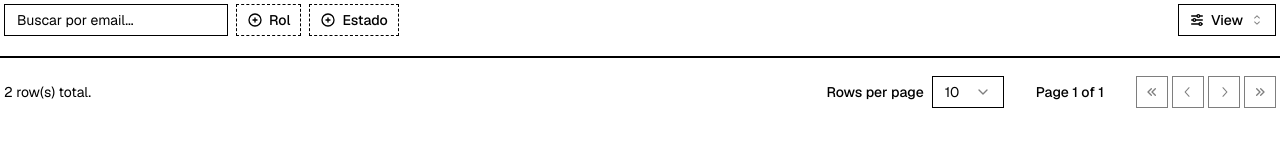
Test: OperatorsTable — toolbar › shows a reset control once a filter is active
In the field with placeholder "Buscar por email...": (116, 20) [4,4,228,36], type "analyst"
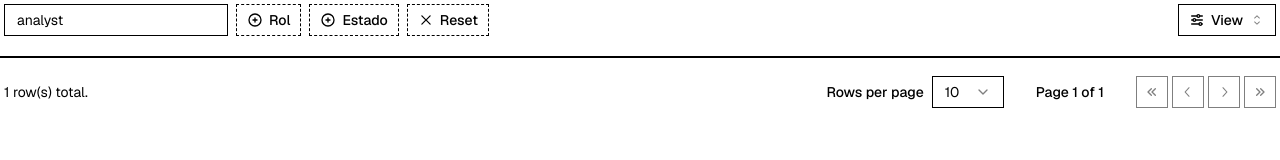
Now the button with aria-label "Reset filters" is shown, box [407,4,489,36]
